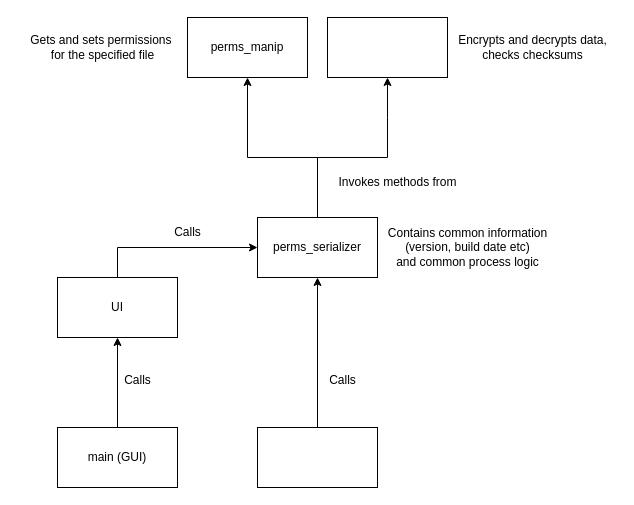
The diagram is 634 pixels wide and 505 high, and some of its shapes have lost their labels. Each missing label, with the centre of its shape:
"encrypter" goes at (387,47).
"main (CLI)" goes at (317,457).
